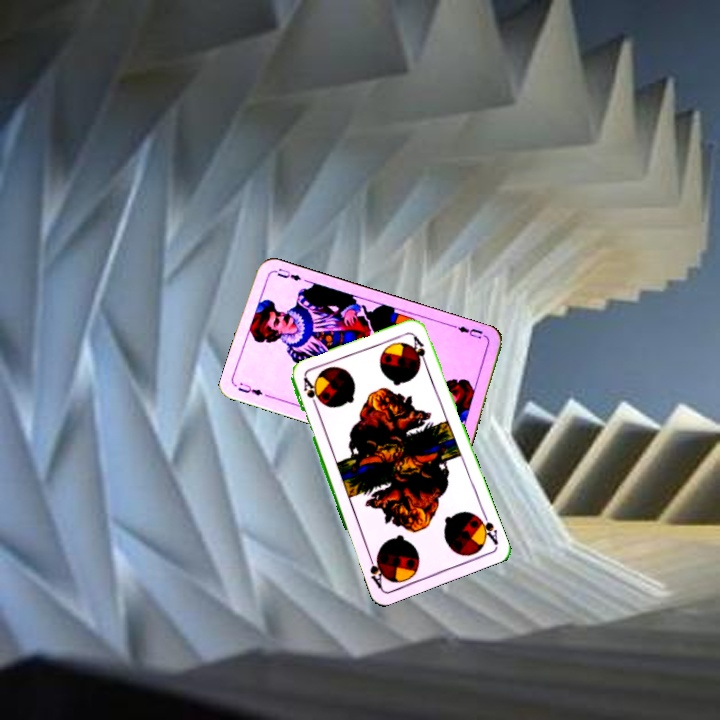EU: (450, 321, 489, 342), (234, 378, 265, 398)
SA: (473, 508, 500, 547), (299, 374, 321, 413)
